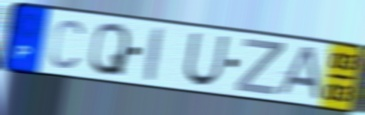A: (273, 45, 325, 103)
C: (48, 16, 86, 70)
I: (144, 24, 165, 84)
Q: (87, 21, 132, 78)
U: (182, 30, 231, 88)
Z: (233, 36, 287, 97)
